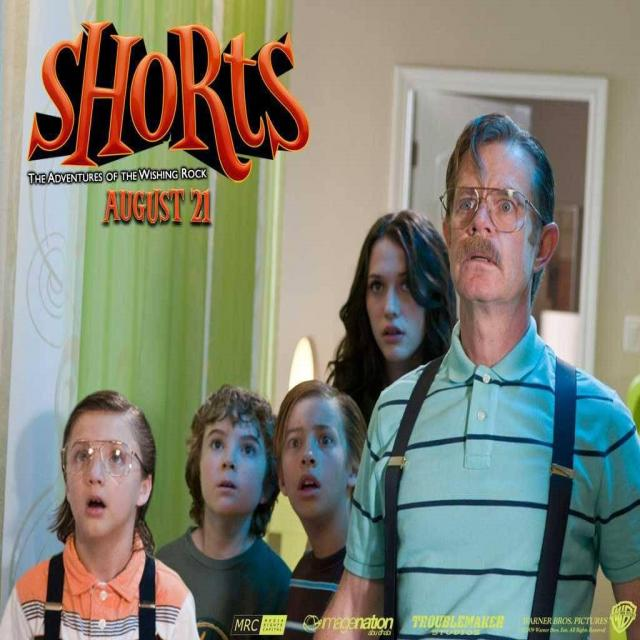nomask: (454, 148, 531, 300), (66, 415, 140, 537), (283, 395, 345, 513), (366, 237, 424, 358), (204, 403, 262, 517)
